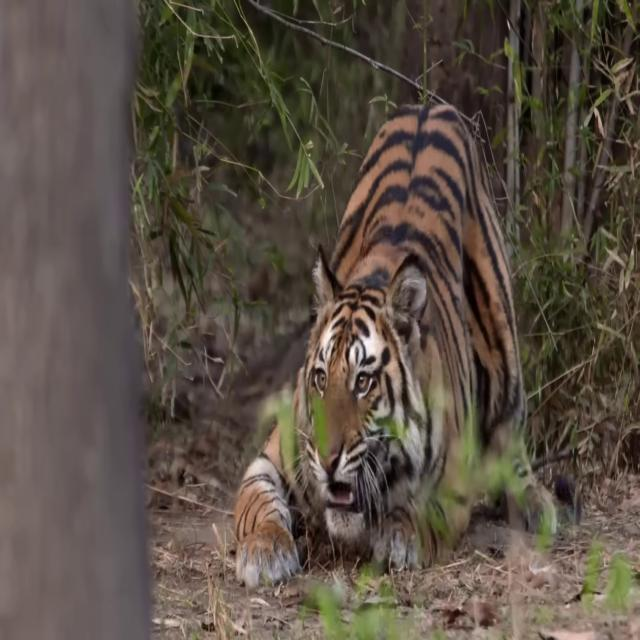tiger: (233, 99, 558, 591)
